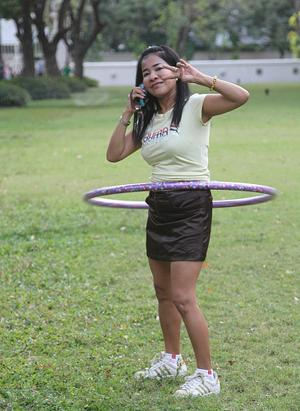person: (83, 45, 275, 399)
